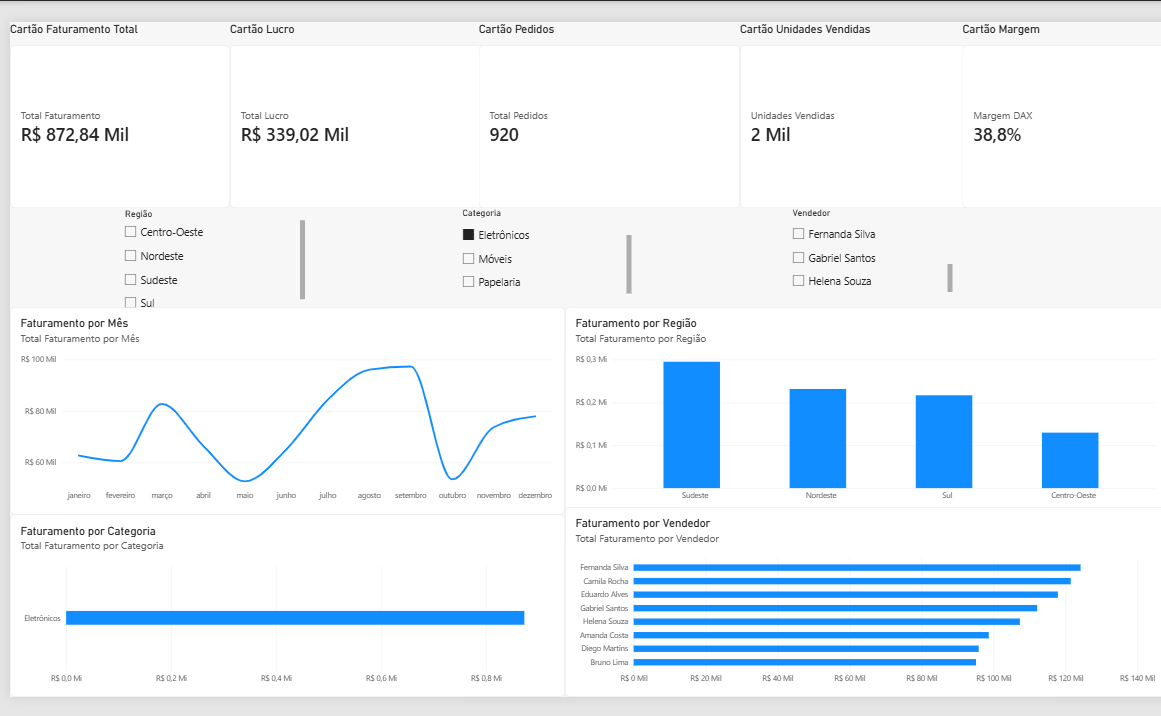

What the dashboard file says about the page in this screenshot:
{"tool":"powerbi","page":{"name":"Página 1","canvas":[1920,1080],"ordinal":0},"visuals":[{"type":"cardVisual","title":"Cartão Faturamento Total","fields":{"Data":["Vendas_Tratadas1.Total Faturamento"]},"box":[0,0,352,298.5],"z":0},{"type":"cardVisual","title":"Cartão Lucro","fields":{"Data":["Vendas_Tratadas1.Total Lucro"]},"box":[352,0,418,298],"z":1000},{"type":"cardVisual","title":"Cartão Pedidos","fields":{"Data":["Vendas_Tratadas1.Total Pedidos"]},"box":[749.2,0,418,298],"z":2000},{"type":"cardVisual","title":"Cartão Unidades Vendidas","fields":{"Data":["Vendas_Tratadas1.Unidades Vendidas"]},"box":[1167.1,0,418,298],"z":3000},{"type":"cardVisual","title":"Cartão Margem","fields":{"Data":["Vendas_Tratadas1.Margem DAX"]},"box":[1524,0,326,298],"z":4000},{"type":"lineChart","title":"Faturamento por Mês","fields":{"Category":["Vendas_Tratadas1.Data_Pedido.Variation.Hierarquia de datas.Ano","Vendas_Tratadas1.Data_Pedido.Variation.Hierarquia de datas.Trimestre","Vendas_Tratadas1.Data_Pedido.Variation.Hierarquia de datas.Mês","Vendas_Tratadas1.Data_Pedido.Variation.Hierarquia de datas.Dia"],"Y":["Vendas_Tratadas1.Total Faturamento"]},"box":[0,456,888,332],"z":5000},{"type":"clusteredColumnChart","title":"Faturamento por Região","fields":{"Category":["Vendas_Tratadas1.Região"],"Y":["Vendas_Tratadas1.Total Faturamento"]},"box":[888,456,962,332],"z":6000},{"type":"clusteredBarChart","title":"Faturamento por Categoria","fields":{"Category":["Vendas_Tratadas1.Categoria"],"Y":["Vendas_Tratadas1.Total Faturamento"]},"box":[0,788,888,292],"z":7000},{"type":"clusteredBarChart","title":"Faturamento por Vendedor","fields":{"Category":["Vendas_Tratadas1.Vendedor"],"Y":["Vendas_Tratadas1.Total Faturamento"]},"box":[888,776,962,304],"z":8000},{"type":"slicer","fields":{"Values":["Vendas_Tratadas1.Região"]},"box":[176,298,296,158],"z":9000},{"type":"slicer","fields":{"Values":["Vendas_Tratadas1.Categoria"]},"box":[716,296,278,138],"z":10000},{"type":"slicer","fields":{"Values":["Vendas_Tratadas1.Vendedor"]},"box":[1244,296,264,136],"z":11000}]}

Visuals, with their boxes on the page's 1920x1080 design canvas (x1, y1, x2, y2). These are canvas units, not pixel positions in the 1161x716 screenshot, which may show the page scaled, cropped or inside an application window:
"Cartão Faturamento Total" cardVisual: 0,0,352,298
"Cartão Lucro" cardVisual: 352,0,770,298
"Cartão Pedidos" cardVisual: 749,0,1167,298
"Cartão Unidades Vendidas" cardVisual: 1167,0,1585,298
"Cartão Margem" cardVisual: 1524,0,1850,298
"Faturamento por Mês" lineChart: 0,456,888,788
"Faturamento por Região" clusteredColumnChart: 888,456,1850,788
"Faturamento por Categoria" clusteredBarChart: 0,788,888,1080
"Faturamento por Vendedor" clusteredBarChart: 888,776,1850,1080
slicer - Vendas_Tratadas1.Região: 176,298,472,456
slicer - Vendas_Tratadas1.Categoria: 716,296,994,434
slicer - Vendas_Tratadas1.Vendedor: 1244,296,1508,432
